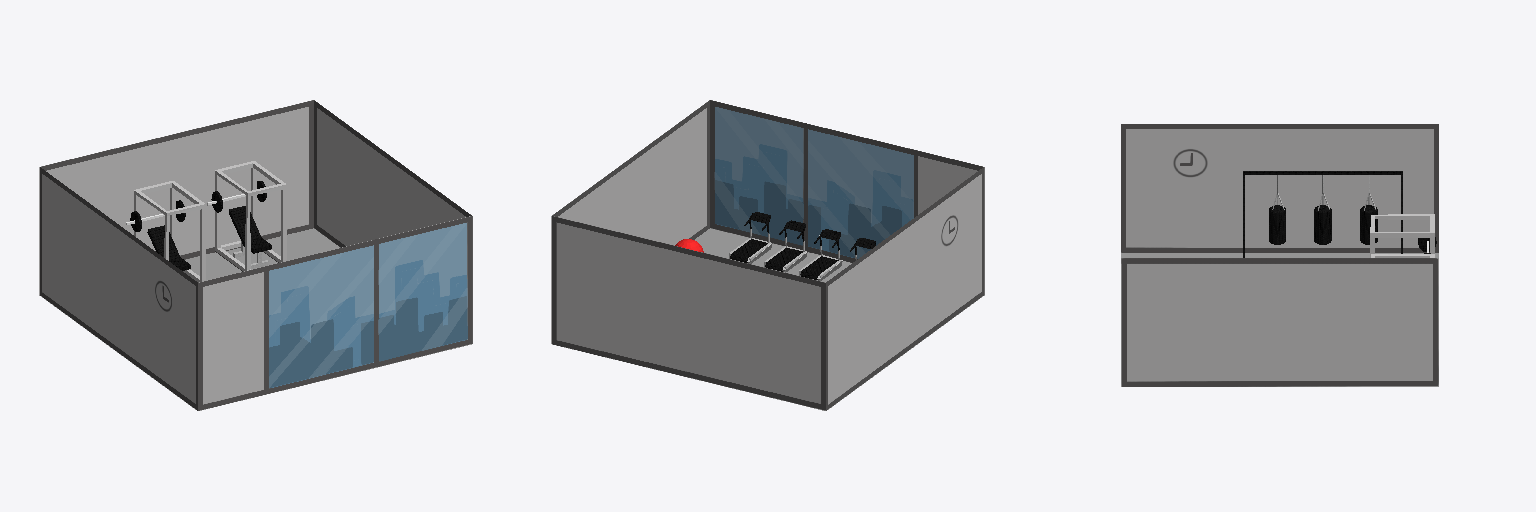
3 views of the same model, side by side, from view 1: azimuth 30°, elevation 25°; view 2: azimuth 150°, elevation 25°; view 3: azimuth 270°, elevation 25° (orthographic).
Visible parts, largest first — view 1: group7 group6 group5 group4 pasted__pPlane2 group8, group7 group6 group5 group4 group8 pasted__pPlane1, group7 group6 group5 group4 group8 pasted__pasted__pPlane2, group7 group6 group5 group4 group8 pasted__pasted__pasted__pPlan, pasted__group43 group group48 pasted__pCube6, pPlane1 group7 group6 group5 group4, group48 group43 group47 pCube6, pasted__group43 group group48 pasted__pCube4, group48 group43 group47 pCube4; view 2: group7 group6 group5 group4 group8 pasted__pPlane1, group7 group6 group5 group4 pasted__pPlane2 group8, group7 group6 group5 group4 group8 pasted__pasted__pPlane2, group7 group6 group5 group4 group8 pasted__pasted__pasted__pPlan, pPlane1 group7 group6 group5 group4, group17 group46 pasted__pasted__pCube1 pasted__pasted__group13 p, group17 group46 pasted__pasted__pasted__pCube1 pasted__pasted__p, group17 group46 pasted__pCube1 pasted__group13 group14; view 3: group7 group6 group5 group4 group8 pasted__pasted__pasted__pPlan, group7 group6 group5 group4 group8 pasted__pasted__pPlane2, pPlane1 group7 group6 group5 group4, group48 group43 group47 pCube6, group31 group32 group33 pasted__pasted__pCylinder1 pasted__group, pCube3 group31 group32 group33, group31 group32 group33 group29 group23 pCylinder1.
Part boxes in pixels (bbox=[...]): group7 group6 group5 group4 pasted__pPlane2 group8: bbox=[198, 216, 471, 410]; group7 group6 group5 group4 group8 pasted__pPlane1: bbox=[39, 100, 313, 294]; group7 group6 group5 group4 group8 pasted__pasted__pPlane2: bbox=[40, 167, 197, 410]; group7 group6 group5 group4 group8 pasted__pasted__pasted__pPlan: bbox=[314, 100, 472, 343]; pasted__group43 group group48 pasted__pCube6: bbox=[215, 161, 286, 271]; pPlane1 group7 group6 group5 group4: bbox=[39, 228, 471, 410]; group48 group43 group47 pCube6: bbox=[134, 181, 205, 282]; pasted__group43 group group48 pasted__pCube4: bbox=[229, 206, 271, 253]; group48 group43 group47 pCube4: bbox=[147, 225, 190, 270]; group7 group6 group5 group4 group8 pasted__pPlane1: bbox=[552, 216, 825, 410]; group7 group6 group5 group4 pasted__pPlane2 group8: bbox=[710, 100, 984, 294]; group7 group6 group5 group4 group8 pasted__pasted__pPlane2: bbox=[826, 167, 983, 410]; group7 group6 group5 group4 group8 pasted__pasted__pasted__pPlan: bbox=[551, 100, 709, 343]; pPlane1 group7 group6 group5 group4: bbox=[552, 228, 984, 410]; group17 group46 pasted__pasted__pCube1 pasted__pasted__group13 p: bbox=[764, 246, 807, 272]; group17 group46 pasted__pasted__pasted__pCube1 pasted__pasted__p: bbox=[729, 238, 772, 263]; group17 group46 pasted__pCube1 pasted__group13 group14: bbox=[799, 255, 842, 280]; group7 group6 group5 group4 group8 pasted__pasted__pasted__pPlan: bbox=[1121, 258, 1438, 386]; group7 group6 group5 group4 group8 pasted__pasted__pPlane2: bbox=[1121, 124, 1438, 252]; pPlane1 group7 group6 group5 group4: bbox=[1121, 253, 1438, 257]; group48 group43 group47 pCube6: bbox=[1370, 214, 1434, 257]; group31 group32 group33 pasted__pasted__pCylinder1 pasted__group: bbox=[1314, 205, 1331, 244]; pCube3 group31 group32 group33: bbox=[1244, 171, 1402, 174]; group31 group32 group33 group29 group23 pCylinder1: bbox=[1269, 205, 1285, 244].
Bounding box in the file's own units: 7.84 × 3.52 × 7.84.
27 materials, 6 textured.